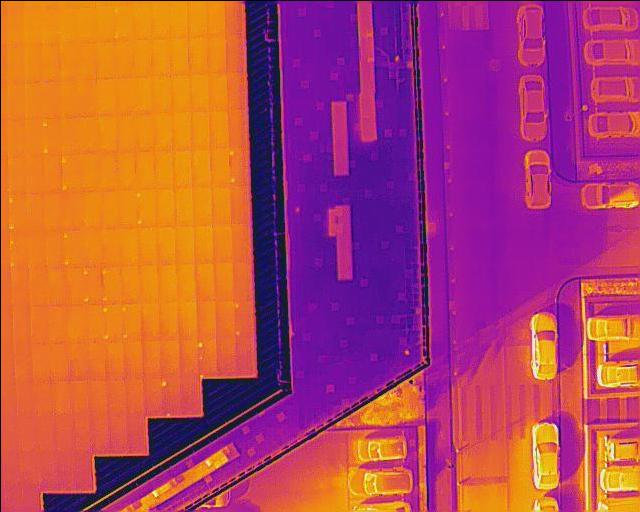Cell-Multi: (120, 302, 141, 339), (233, 300, 252, 340), (228, 146, 247, 186), (160, 378, 179, 417), (136, 186, 154, 227), (7, 191, 26, 229), (102, 303, 121, 340), (197, 339, 216, 376), (60, 152, 79, 189), (101, 264, 119, 303), (63, 229, 82, 265), (41, 117, 59, 154), (82, 265, 100, 301)
No-Anomaly: (153, 186, 175, 226), (116, 225, 137, 264), (175, 263, 196, 301), (140, 339, 160, 378), (130, 0, 150, 39), (187, 72, 207, 111), (193, 263, 214, 300), (232, 261, 251, 301), (118, 264, 138, 302), (27, 265, 47, 303), (196, 301, 216, 339), (157, 301, 177, 339), (159, 340, 179, 378), (172, 148, 191, 188), (115, 150, 135, 188), (79, 151, 99, 189), (18, 452, 38, 490), (224, 36, 244, 74), (112, 39, 132, 77), (131, 76, 151, 114), (77, 77, 97, 115), (136, 225, 155, 264), (177, 301, 196, 340), (153, 148, 172, 187), (112, 0, 131, 39), (173, 186, 192, 225), (193, 187, 212, 226), (192, 226, 212, 263), (139, 302, 159, 339), (13, 340, 33, 377), (121, 340, 141, 377), (208, 110, 228, 147), (78, 114, 98, 151), (88, 378, 108, 415), (80, 189, 100, 226), (125, 416, 145, 453), (37, 453, 57, 490), (74, 40, 94, 77), (26, 190, 45, 228), (155, 225, 174, 263), (99, 227, 118, 265), (157, 263, 176, 301), (138, 264, 157, 302), (215, 339, 234, 377), (168, 0, 187, 38), (230, 186, 249, 224), (211, 187, 230, 225), (116, 188, 135, 226), (131, 39, 150, 77), (93, 40, 112, 78), (22, 43, 41, 81), (151, 74, 170, 112), (114, 77, 133, 115), (75, 5, 95, 41), (234, 340, 254, 376), (69, 339, 87, 379), (210, 147, 228, 187), (169, 76, 189, 112), (18, 416, 39, 450), (23, 6, 42, 43), (227, 109, 246, 146), (153, 112, 172, 149), (172, 113, 191, 150), (5, 119, 24, 156), (35, 379, 54, 416), (207, 73, 226, 110), (44, 190, 62, 229), (175, 225, 193, 264), (34, 339, 52, 378), (104, 339, 122, 378), (98, 149, 116, 188), (17, 378, 35, 417), (150, 37, 168, 76), (49, 303, 69, 338), (88, 417, 108, 452), (62, 190, 80, 228), (5, 6, 23, 44), (231, 225, 250, 261), (213, 225, 232, 261), (81, 226, 99, 264), (214, 262, 232, 300), (10, 266, 28, 304), (178, 340, 197, 376), (179, 377, 198, 413), (142, 377, 160, 415), (190, 112, 209, 148), (98, 113, 116, 151), (191, 149, 209, 187), (186, 0, 205, 36), (99, 188, 117, 226), (109, 415, 127, 453), (56, 453, 75, 489), (207, 35, 225, 73), (226, 73, 245, 109), (41, 79, 59, 117), (27, 228, 45, 265), (9, 230, 27, 267), (47, 265, 65, 302), (215, 300, 233, 337), (6, 82, 24, 119), (134, 113, 152, 150), (135, 149, 153, 186), (25, 154, 43, 191), (150, 0, 168, 37), (108, 379, 126, 416), (72, 416, 90, 453), (73, 452, 91, 489), (168, 38, 186, 75), (30, 303, 49, 338), (6, 156, 25, 191), (187, 37, 206, 72), (96, 78, 115, 113), (87, 339, 104, 378), (52, 339, 69, 378), (5, 43, 22, 82), (116, 114, 134, 150), (60, 117, 78, 153), (225, 0, 243, 36), (23, 81, 41, 117), (125, 377, 142, 415), (205, 0, 224, 34), (41, 42, 58, 80), (45, 229, 63, 264), (65, 265, 82, 302), (68, 302, 85, 339), (24, 117, 41, 154), (43, 153, 60, 190), (59, 78, 76, 115), (94, 5, 111, 41), (58, 6, 76, 40), (85, 302, 102, 338), (12, 303, 29, 339), (54, 379, 71, 415), (56, 415, 73, 451), (41, 6, 58, 41), (38, 416, 55, 451), (71, 379, 87, 416), (59, 41, 75, 78)
